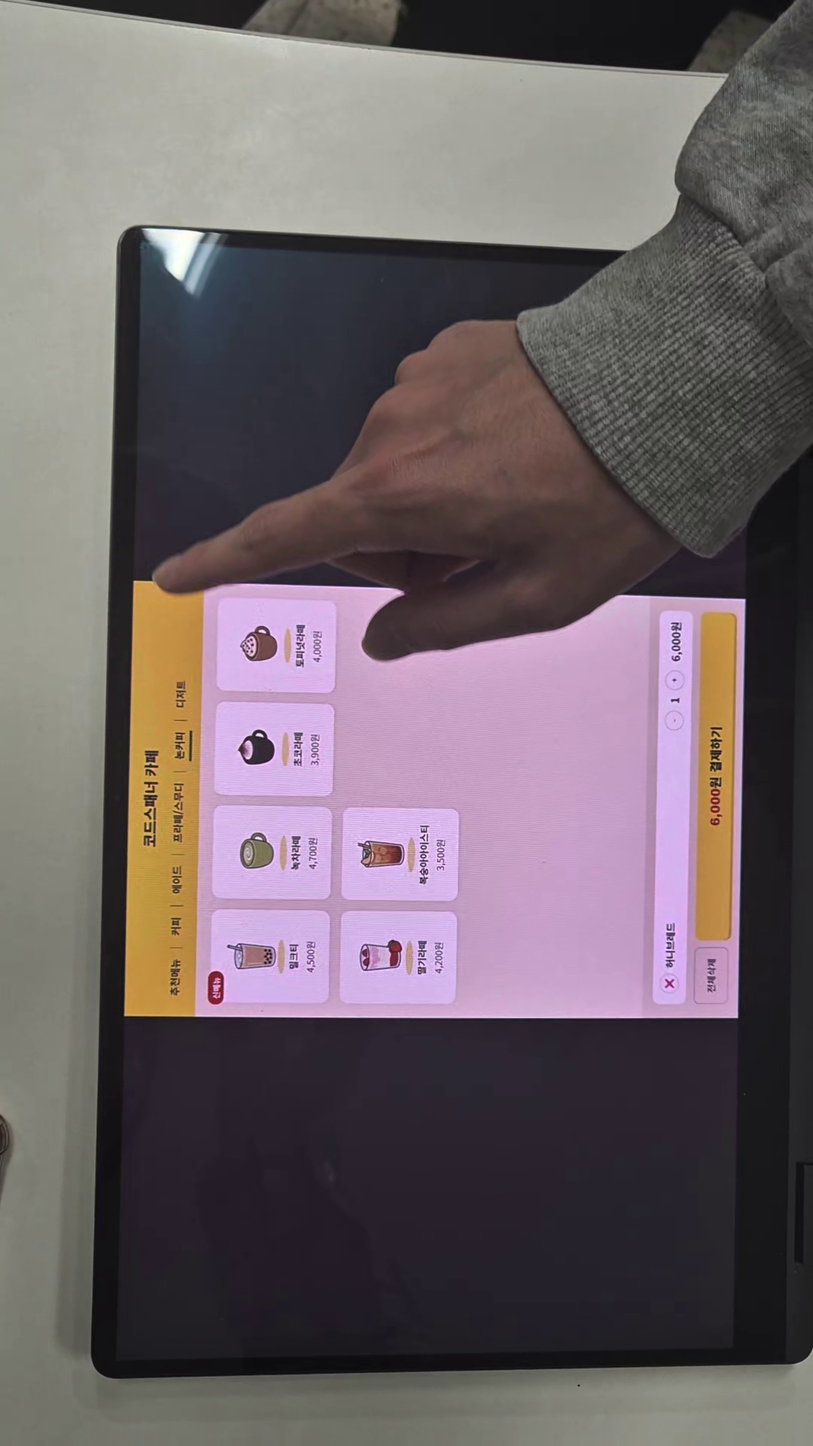action_button: (697, 609, 731, 942), (693, 948, 730, 1001)
cart_item: (654, 609, 690, 1001)
category_tab: (168, 778, 188, 846), (166, 957, 185, 1001), (174, 676, 192, 714), (173, 727, 190, 763), (169, 863, 185, 900), (165, 913, 184, 941)
menu_back: (217, 596, 334, 695), (340, 805, 458, 902), (215, 701, 333, 797), (214, 804, 330, 900), (343, 911, 458, 1004), (212, 911, 328, 1001)
menu_name: (416, 821, 433, 887), (294, 622, 308, 669), (285, 934, 301, 975), (415, 937, 429, 979), (289, 835, 304, 871), (292, 733, 304, 767)
menu_price: (307, 829, 321, 872), (309, 731, 323, 771), (305, 935, 319, 975), (312, 627, 326, 666), (437, 835, 446, 875), (434, 939, 444, 975)
